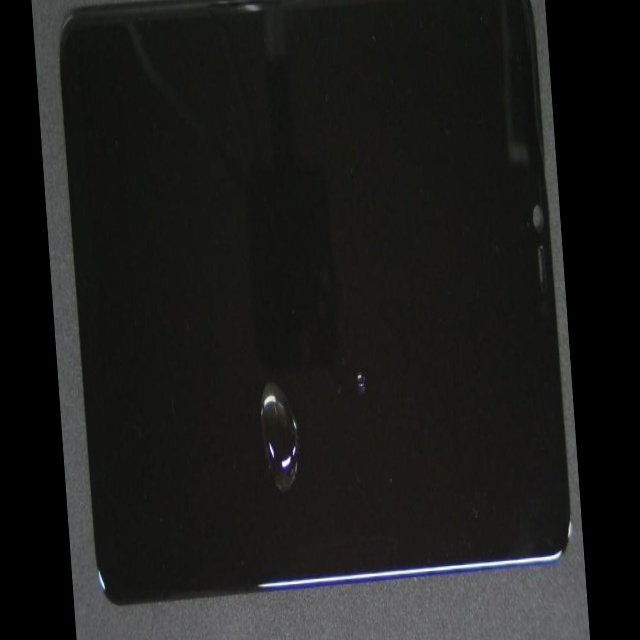oil: (142, 102, 381, 640)
